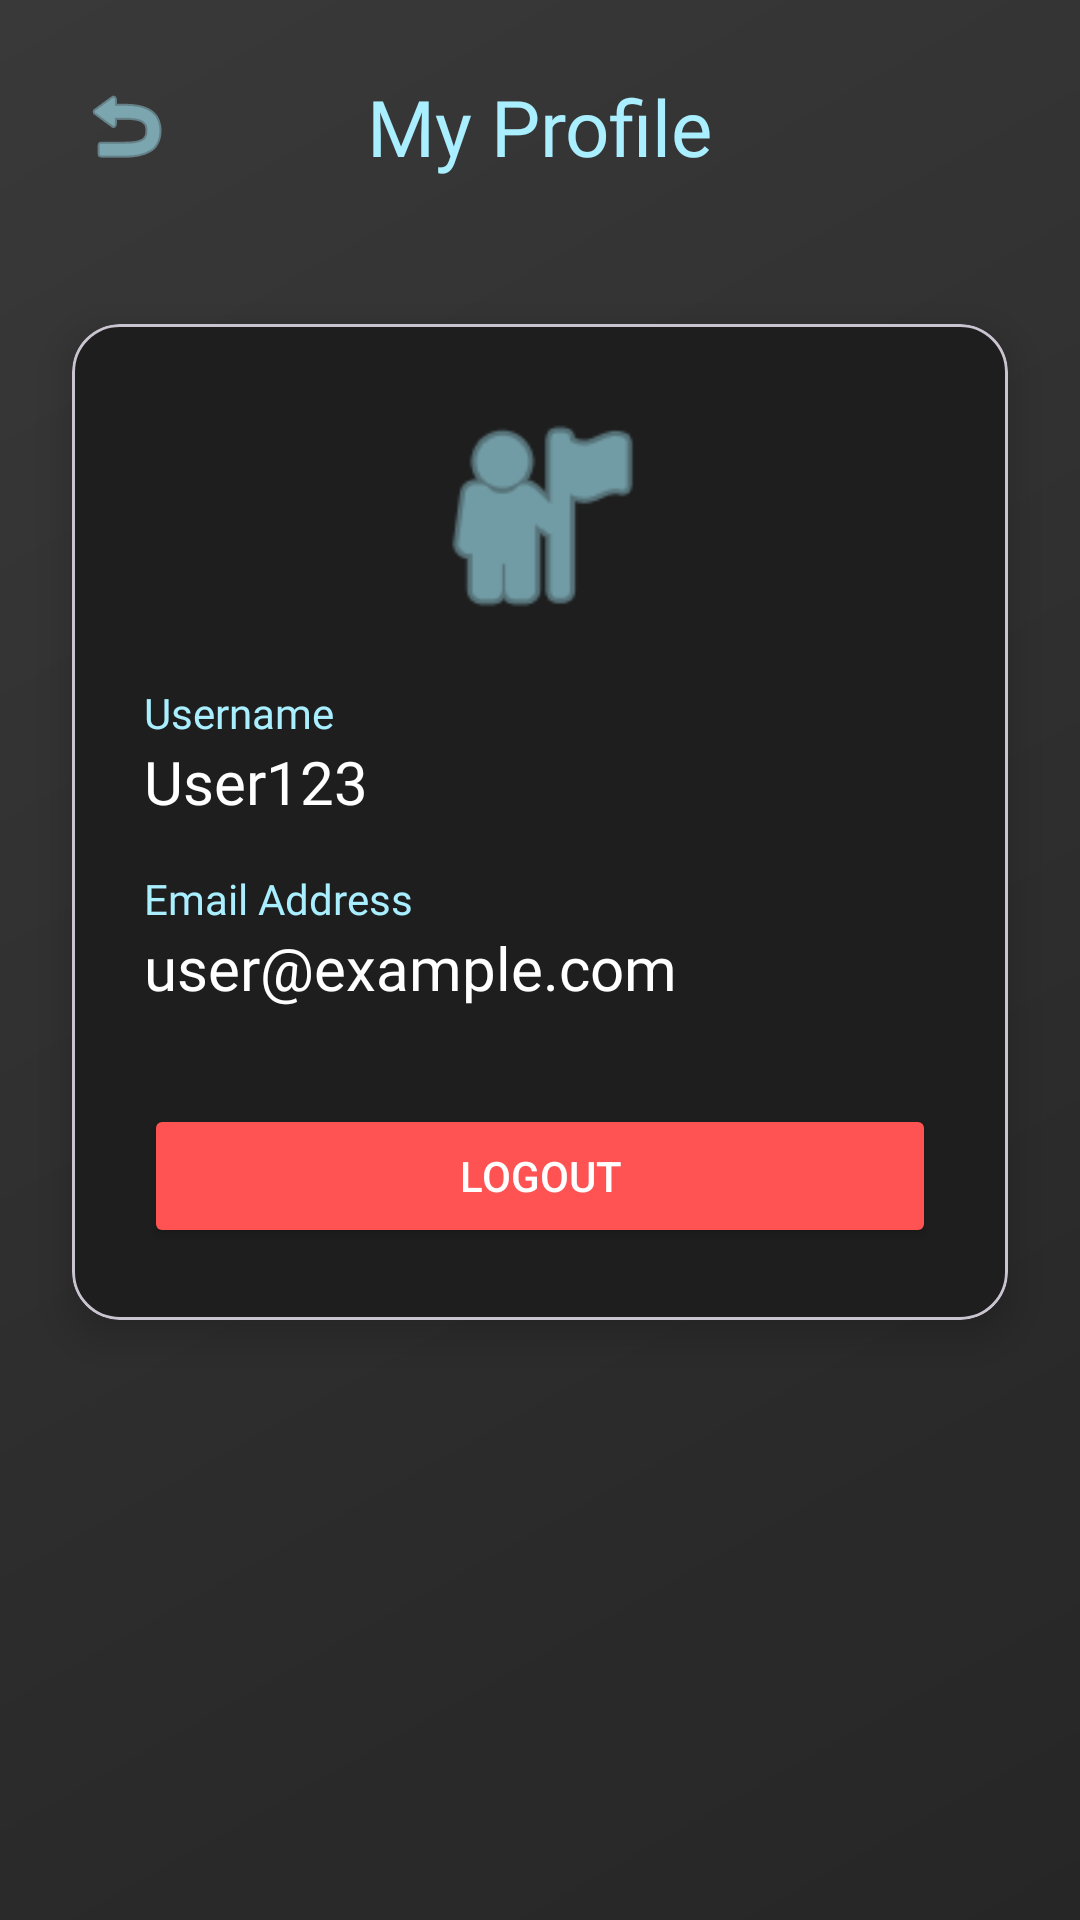

Where to tap for icons on this 1080 x 1920 app screen, as (x,y):
Back: (127,126)
myplaces: (542,516)
